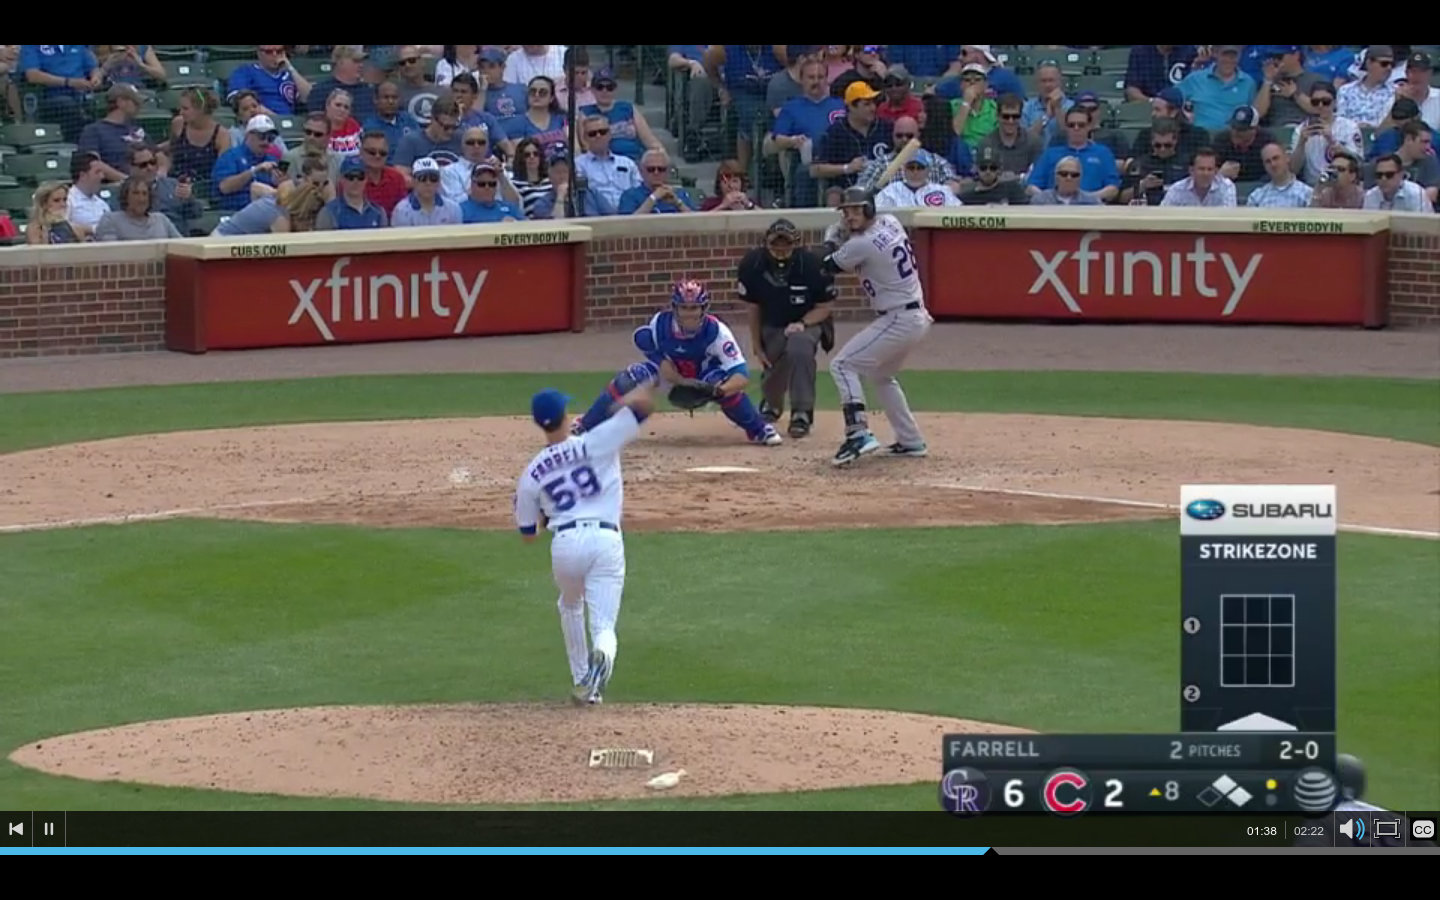baseball bat: (872, 140, 922, 197)
baseball player: (515, 359, 668, 708), (568, 280, 779, 437), (821, 189, 935, 471)
referee: (728, 216, 850, 446)
